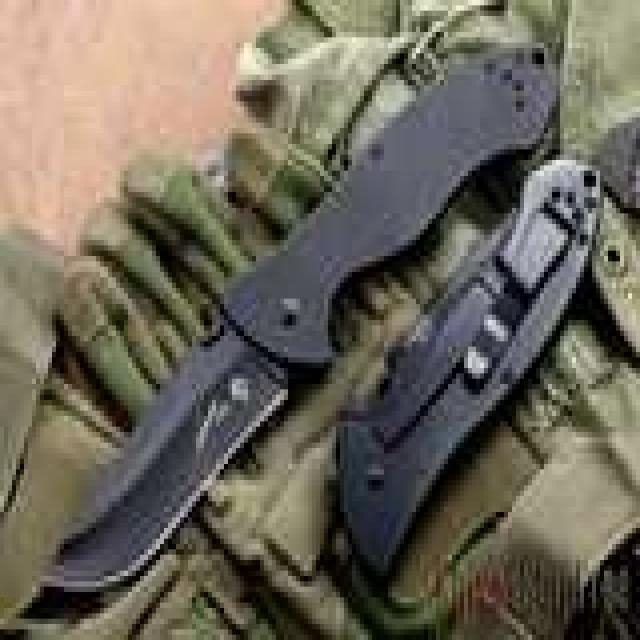knife: (37, 40, 560, 590)
